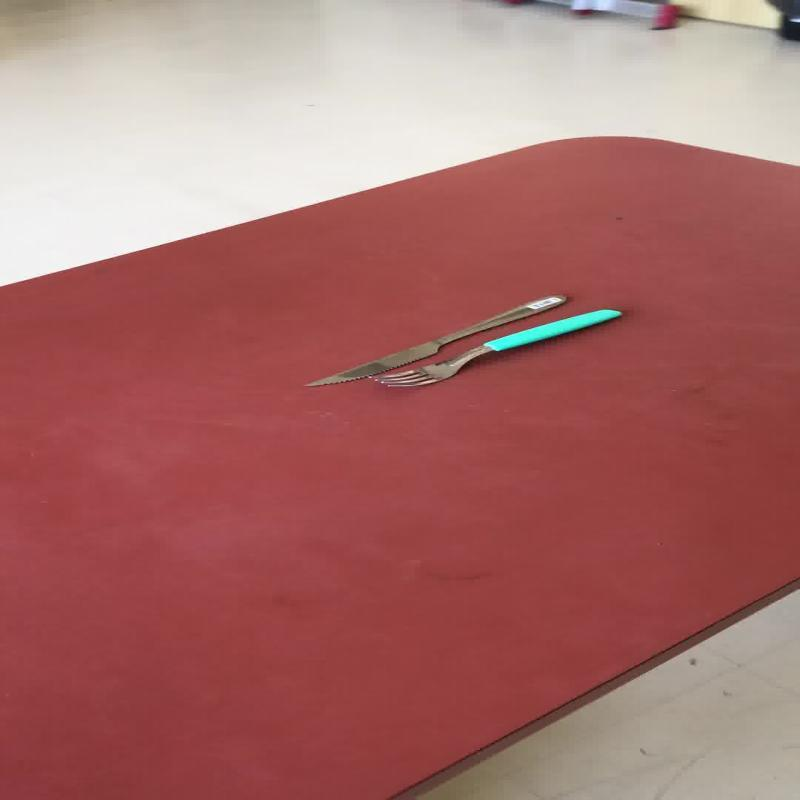fork: (372, 307, 622, 387)
knife: (301, 292, 566, 386)
